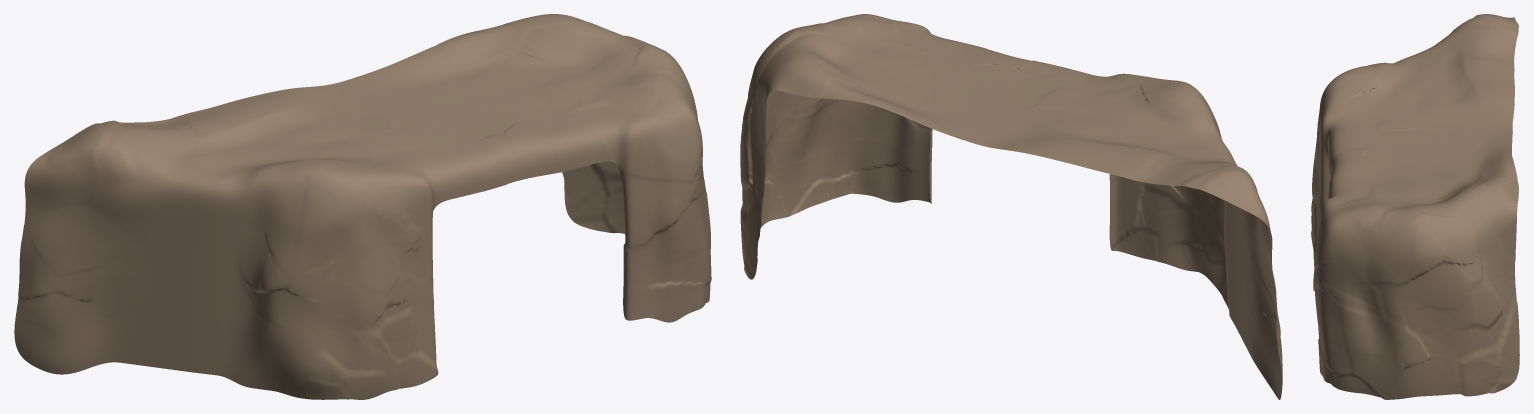
Rendered from Terrace_door.fbx.
3 renders of one model, left to right at view 1: azimuth 30°, elevation 25°; view 2: azimuth 150°, elevation 25°; view 3: azimuth 270°, elevation 25°, orthographic. The views are drawn at different scales.
Visible parts, largest first — view 1: Terrace_door; view 2: Terrace_door; view 3: Terrace_door.
Part boxes in pixels (x1,y1,x2,y2): Terrace_door: (14,14,711,399); Terrace_door: (740,14,1282,399); Terrace_door: (1311,14,1519,399).
Bounding box in the file's own units: 32.08 × 11.64 × 11.94.
